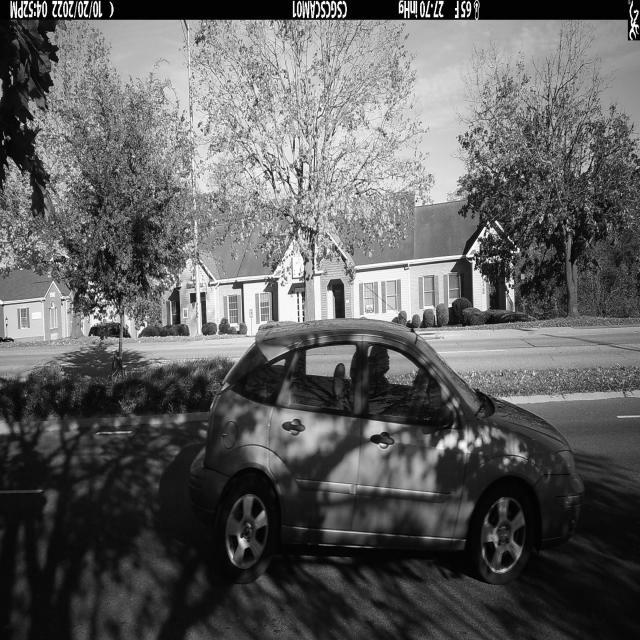Hatchback: (188, 319, 583, 586)
